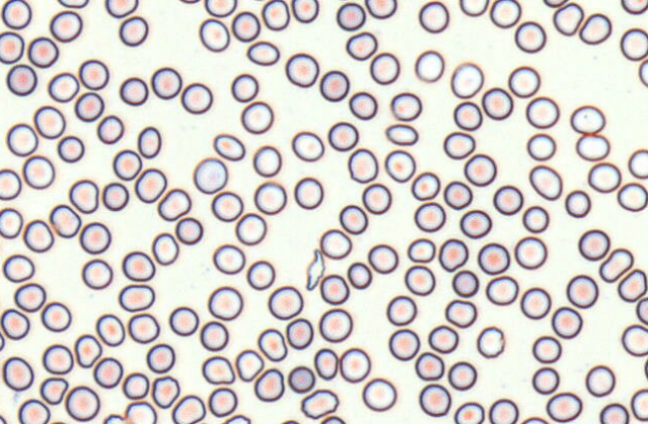RBC: (64, 385, 100, 421), (207, 285, 243, 320), (193, 157, 227, 194), (598, 247, 633, 282), (267, 285, 303, 319), (450, 61, 483, 98), (361, 377, 396, 411), (285, 52, 319, 87), (134, 167, 167, 203), (529, 164, 562, 200), (300, 388, 338, 419), (318, 308, 352, 342), (157, 187, 191, 221), (22, 154, 55, 189), (545, 391, 582, 422), (418, 383, 451, 417), (514, 235, 547, 269), (240, 100, 273, 134), (2, 356, 34, 391), (49, 203, 81, 238), (347, 147, 378, 183), (463, 153, 496, 186), (6, 122, 38, 156), (566, 274, 598, 308), (587, 161, 621, 193), (552, 1, 584, 35), (525, 96, 559, 128), (253, 367, 284, 402), (339, 347, 370, 382), (254, 181, 286, 214), (79, 221, 111, 254), (33, 105, 65, 138), (514, 20, 546, 53), (49, 10, 82, 42), (481, 87, 513, 120), (150, 66, 182, 99), (121, 250, 155, 281), (198, 18, 229, 52), (570, 104, 605, 134), (118, 283, 154, 312), (388, 328, 420, 360), (477, 242, 509, 274), (578, 228, 610, 260), (579, 12, 611, 44), (508, 65, 540, 97), (180, 82, 212, 114), (319, 228, 352, 259), (23, 219, 54, 252), (210, 190, 243, 221), (235, 212, 266, 245), (212, 243, 245, 274), (520, 286, 551, 319), (384, 149, 415, 182), (418, 0, 449, 33), (291, 130, 324, 161), (617, 268, 647, 302), (69, 179, 99, 213), (171, 394, 206, 423), (127, 312, 159, 343), (81, 258, 113, 289), (551, 306, 582, 338), (6, 63, 37, 95), (257, 328, 287, 361), (95, 313, 125, 346), (585, 364, 615, 397), (485, 275, 518, 305), (13, 282, 46, 312), (438, 238, 468, 271), (414, 49, 444, 82), (369, 51, 399, 84), (201, 355, 235, 384), (74, 333, 102, 368), (575, 133, 610, 161), (42, 343, 73, 374), (168, 305, 199, 336), (404, 264, 435, 295), (40, 301, 71, 332), (367, 243, 398, 274), (414, 201, 445, 232), (27, 36, 58, 67), (78, 59, 109, 90), (0, 308, 30, 340), (93, 356, 123, 388), (361, 182, 391, 214), (47, 72, 79, 102), (151, 375, 180, 408), (235, 348, 264, 381), (294, 176, 323, 209), (112, 149, 142, 180), (319, 273, 349, 304), (493, 184, 523, 215), (319, 70, 349, 101), (390, 91, 421, 121), (118, 15, 148, 46), (327, 121, 358, 151), (476, 326, 505, 358), (444, 299, 476, 328), (2, 253, 34, 282), (459, 209, 491, 238), (252, 145, 281, 177), (345, 31, 377, 60), (151, 232, 179, 265), (212, 133, 245, 161), (617, 181, 647, 211), (386, 295, 416, 325), (74, 91, 104, 121), (246, 259, 275, 290), (199, 320, 228, 351), (231, 10, 260, 41), (285, 317, 313, 349), (489, 0, 521, 28), (443, 131, 475, 159), (620, 27, 647, 60), (208, 387, 237, 417), (428, 324, 458, 353), (414, 351, 444, 380), (146, 343, 175, 373), (1, 0, 31, 29), (447, 360, 476, 390), (339, 204, 368, 234), (410, 171, 440, 200), (261, 0, 290, 30), (526, 132, 556, 161), (453, 100, 482, 130), (443, 180, 472, 209), (348, 91, 377, 120), (336, 1, 365, 30), (119, 76, 148, 105), (96, 114, 124, 144), (621, 324, 647, 356), (17, 398, 50, 423), (246, 40, 279, 65), (39, 376, 68, 404), (532, 335, 561, 363), (102, 181, 129, 211), (313, 348, 338, 380), (0, 31, 24, 64), (531, 366, 559, 394), (287, 365, 315, 393), (175, 216, 203, 244), (231, 73, 258, 102), (137, 126, 161, 158), (124, 400, 157, 423), (522, 205, 549, 233), (451, 269, 478, 297), (564, 189, 591, 217), (488, 398, 518, 423), (122, 372, 149, 399), (57, 135, 84, 162), (407, 237, 435, 263), (385, 123, 418, 145), (0, 207, 23, 238), (347, 261, 372, 289), (453, 401, 484, 423), (0, 168, 21, 200), (291, 0, 319, 23), (599, 402, 629, 423), (364, 0, 397, 19), (105, 0, 138, 18), (628, 148, 647, 178), (630, 388, 647, 421), (204, 0, 236, 17), (459, 0, 488, 16), (620, 0, 647, 14), (636, 296, 647, 325), (638, 58, 647, 87), (57, 0, 89, 8), (223, 414, 251, 423), (319, 414, 345, 423), (102, 413, 125, 423), (520, 416, 548, 423), (542, 0, 568, 7), (643, 356, 648, 379), (0, 331, 5, 351), (178, 0, 200, 4), (47, 420, 68, 424), (280, 419, 300, 423), (0, 414, 7, 423)
Schistocyte: (306, 248, 325, 292)
